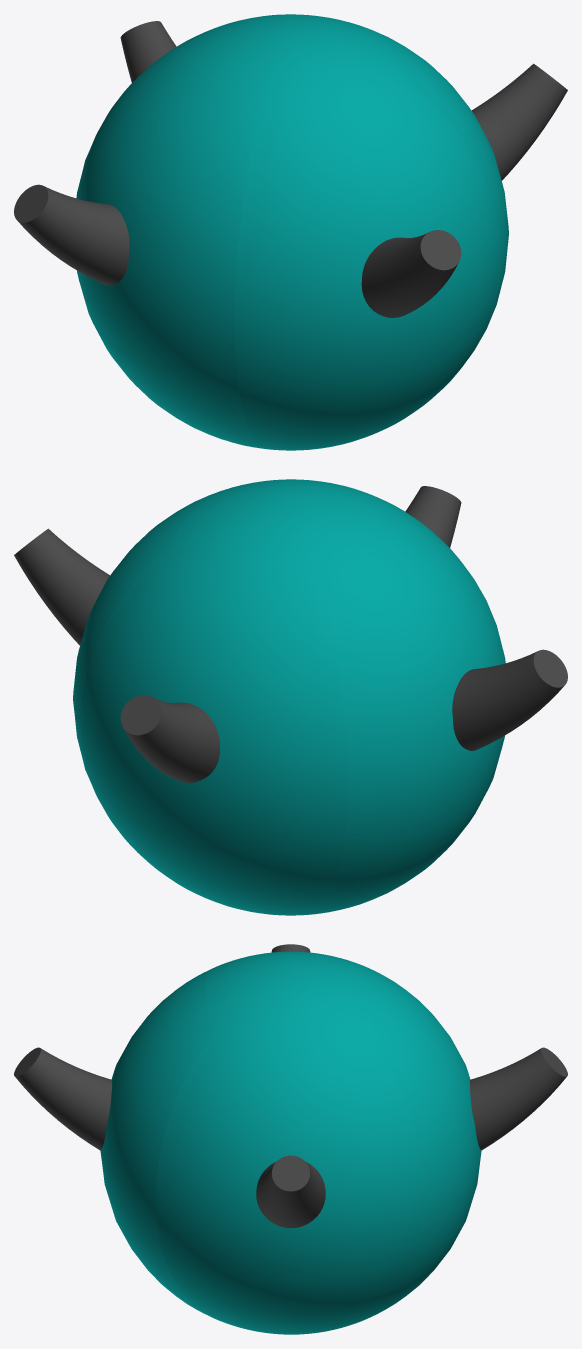
The picture shows the model from 3 angles, top to bottom: view 1: azimuth 30°, elevation 25°; view 2: azimuth 150°, elevation 25°; view 3: azimuth 270°, elevation 25°; orthographic projection. The views are drawn at different scales.
Parts seen in each view (by area): view 1: Body(Spherical)+Colour(6070194_6070194)+Pattern(Solid)+_fa22, Arm002, Arm004, Arm001, Arm003; view 2: Body(Spherical)+Colour(6070194_6070194)+Pattern(Solid)+_fa22, Arm002, Arm003, Arm001, Arm004; view 3: Body(Spherical)+Colour(6070194_6070194)+Pattern(Solid)+_fa22, Arm003, Arm004, Arm001.
Part boxes in pixels (box(x1,y1,x2,y2)): Body(Spherical)+Colour(6070194_6070194)+Pattern(Solid)+_fa22: box(76, 14, 508, 450); Arm002: box(14, 184, 129, 285); Arm004: box(361, 230, 461, 317); Arm001: box(471, 63, 567, 180); Arm003: box(120, 21, 176, 82); Body(Spherical)+Colour(6070194_6070194)+Pattern(Solid)+_fa22: box(73, 479, 505, 915); Arm002: box(452, 649, 567, 750); Arm003: box(120, 695, 220, 782); Arm001: box(14, 528, 109, 645); Arm004: box(405, 486, 461, 547); Body(Spherical)+Colour(6070194_6070194)+Pattern(Solid)+_fa22: box(100, 951, 481, 1334); Arm003: box(470, 1047, 567, 1150); Arm004: box(14, 1047, 111, 1150); Arm001: box(256, 1155, 325, 1228).
Bounding box in the file's own units: 1.47 × 1.02 × 1.47.
Materials: 2 (2 with a texture image).
